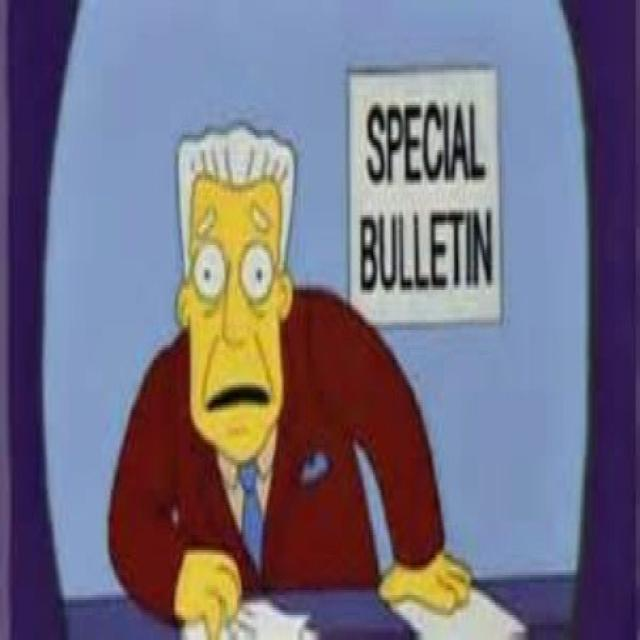Kent Brockman: (171, 124, 298, 471)
